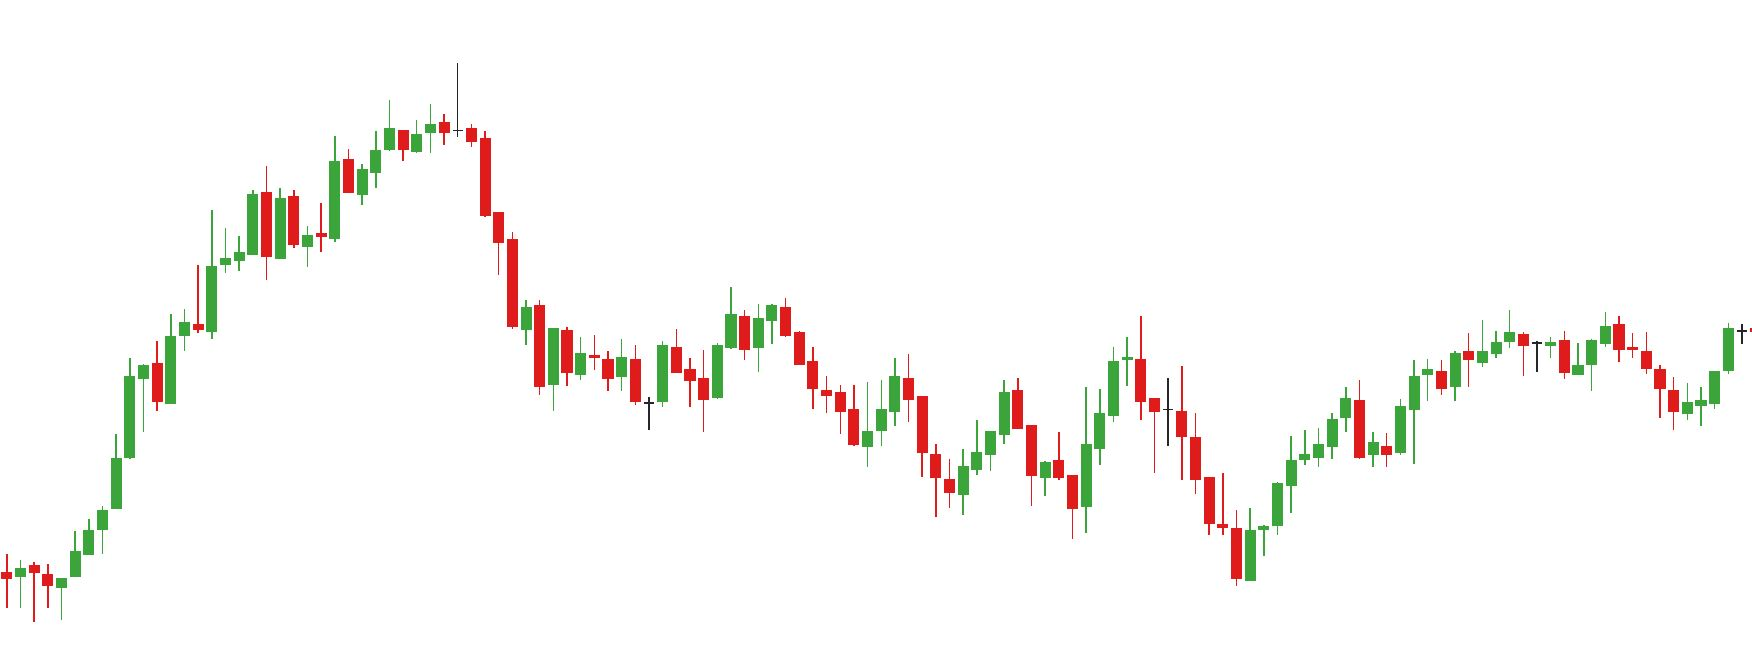buy: (1066, 472, 1260, 588)
sell: (1000, 318, 1151, 458), (674, 289, 753, 392)
